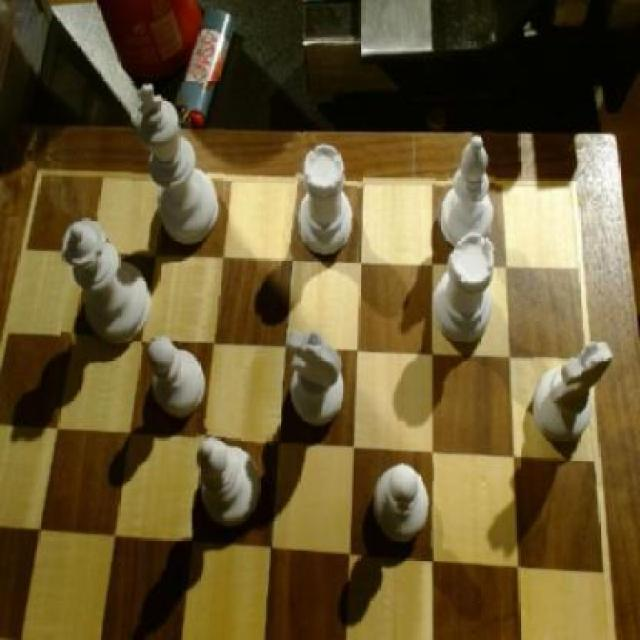black-rook: (192, 430, 272, 536), (435, 132, 497, 255)
white-bishop: (132, 82, 225, 249)
white-king: (534, 336, 614, 458), (289, 328, 354, 432)
white-knight: (145, 335, 210, 424), (371, 460, 436, 548)
white-pawn: (61, 217, 156, 346)
white-queen: (292, 140, 364, 262), (434, 232, 502, 352)
